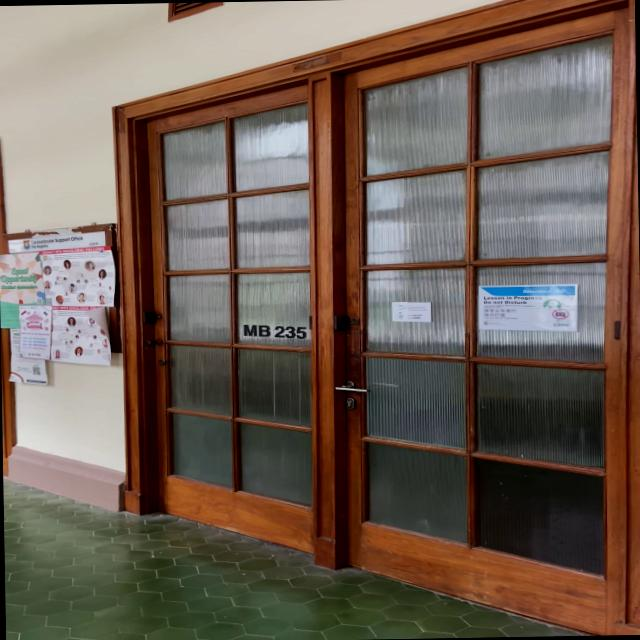room235Window: (236, 320, 312, 342)
